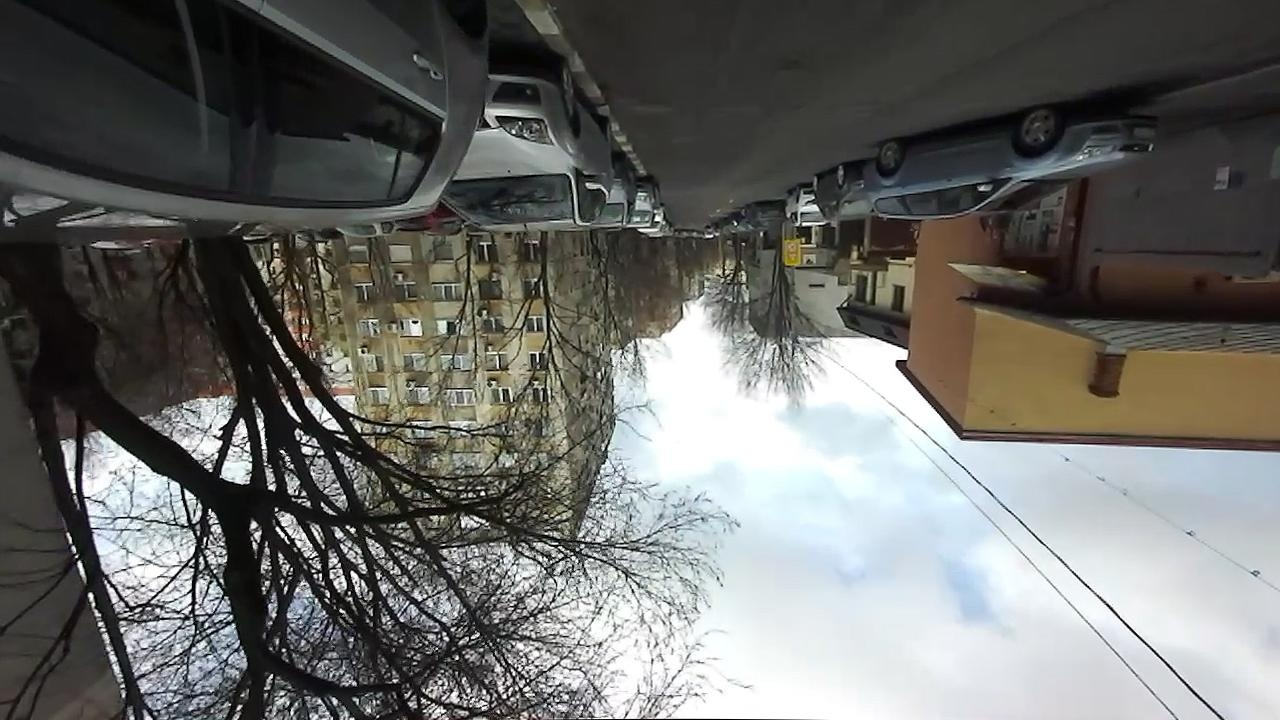pothole: (772, 55, 816, 79)
